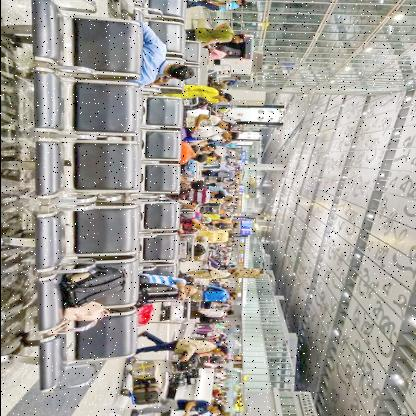airport-trolley: (120, 355, 196, 406)
